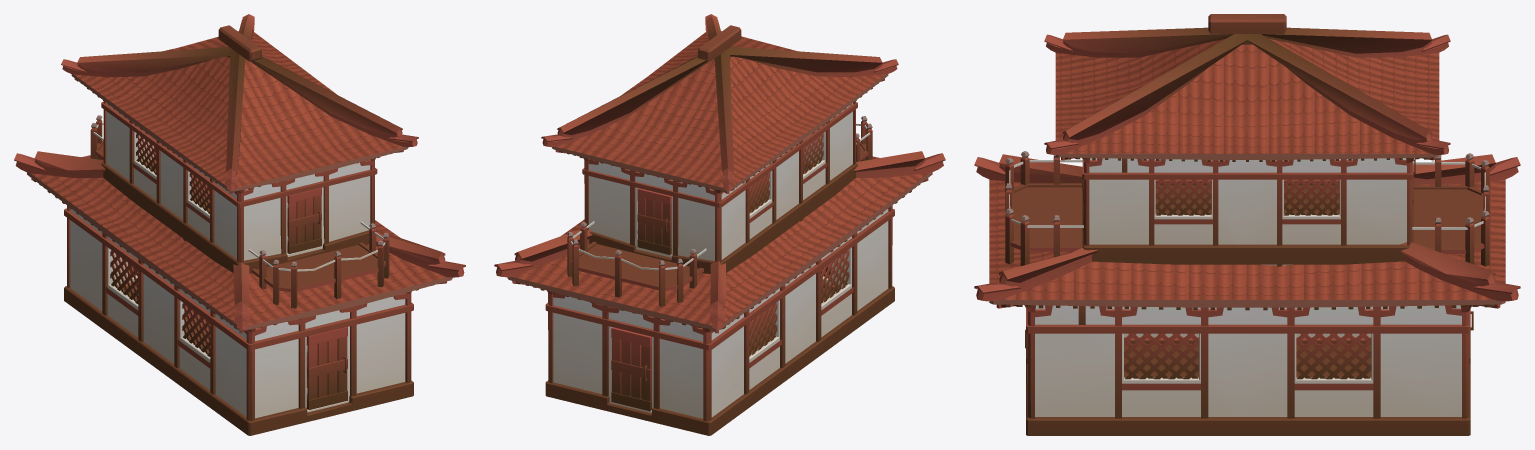
The model's file is asia-house.glb.
3 renders of one model, left to right at view 1: azimuth 30°, elevation 25°; view 2: azimuth 150°, elevation 25°; view 3: azimuth 270°, elevation 25°, orthographic. The views are drawn at different scales.
Visible parts, largest first — view 1: Door12, Roof; view 2: Door12, Roof; view 3: Door12, Roof.
Part boxes in pixels (x1,y1,x2,y2): Door12: (14,14,465,435); Roof: (30,31,447,325); Door12: (494,14,945,435); Roof: (513,31,928,325); Door12: (974,14,1520,435); Roof: (989,39,1505,302).
Size of the model in its own units: 9.34 by 12 by 15.99.
2 materials, 2 textured.
